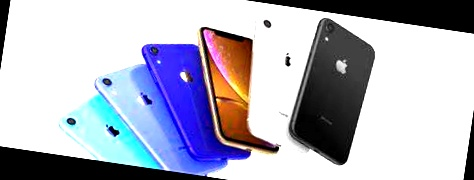iphone: (294, 5, 369, 150)
